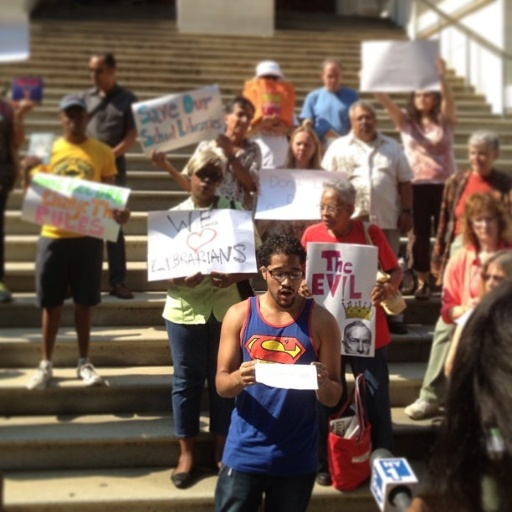hand: (305, 359, 327, 390), (368, 277, 390, 305), (237, 357, 256, 388), (177, 270, 207, 288), (208, 269, 233, 289), (212, 132, 231, 158), (148, 147, 169, 170), (111, 207, 132, 225), (295, 278, 312, 298), (431, 52, 445, 74)
